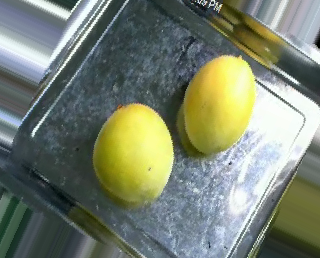Mango: (88, 94, 180, 207), (175, 54, 261, 155)
